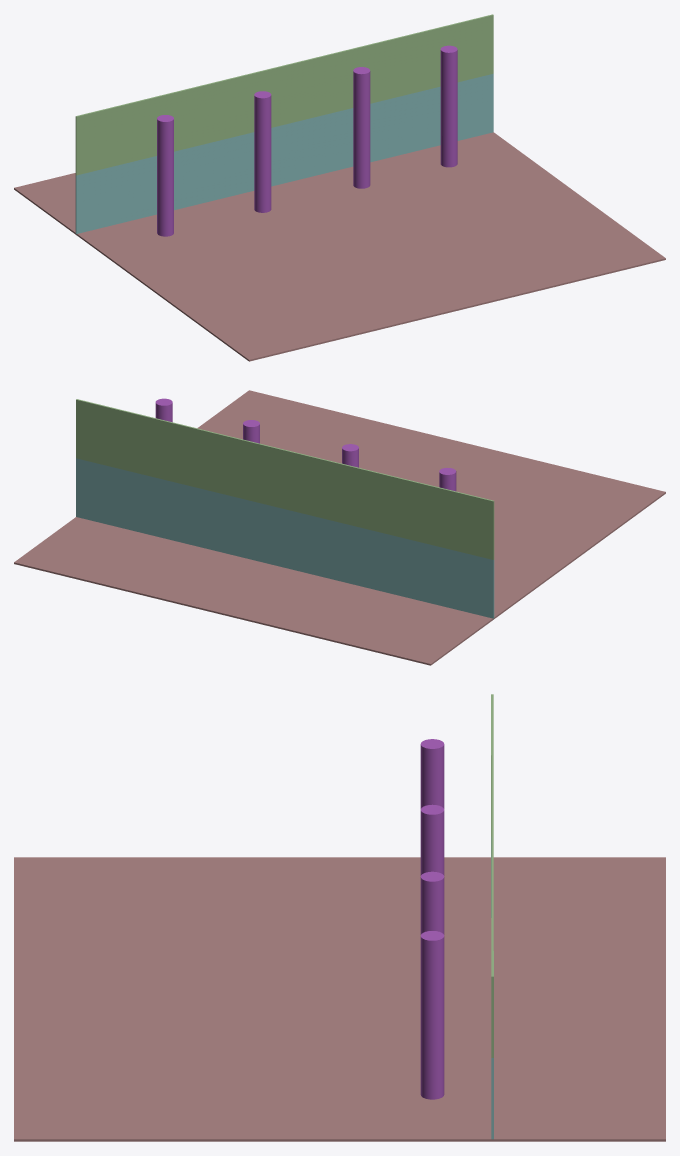
The model's file is MeshTestAPV.fbx.
The picture shows the model from 3 angles, top to bottom: view 1: azimuth 30°, elevation 25°; view 2: azimuth 150°, elevation 25°; view 3: azimuth 270°, elevation 25°; orthographic projection. The views are drawn at different scales.
Visible parts, largest first — view 1: mFloor_1, mWalls_9, mWalls_2, mColumns_4, mColumns_2, mColumns_3, mColumns_1; view 2: mFloor_1, mWalls_9, mWalls_2; view 3: mFloor_1, mColumns_4, mColumns_2, mColumns_1, mColumns_3, mWalls_9.
Part boxes in pixels (<box>): mFloor_1: <box>14,132,665,361</box>; mWalls_9: <box>75,14,493,175</box>; mWalls_2: <box>75,73,493,233</box>; mColumns_4: <box>440,45,457,167</box>; mColumns_2: <box>254,91,271,212</box>; mColumns_3: <box>353,67,370,188</box>; mColumns_1: <box>157,115,173,236</box>; mFloor_1: <box>14,390,665,665</box>; mWalls_9: <box>76,399,494,559</box>; mWalls_2: <box>76,458,494,618</box>; mFloor_1: <box>14,857,665,1141</box>; mColumns_4: <box>420,931,444,1099</box>; mColumns_2: <box>420,804,444,875</box>; mColumns_1: <box>420,739,444,808</box>; mColumns_3: <box>420,871,444,934</box>; mWalls_9: <box>491,694,493,1057</box>.
Size of the model in its own units: 5271 by 1435 by 5144.
